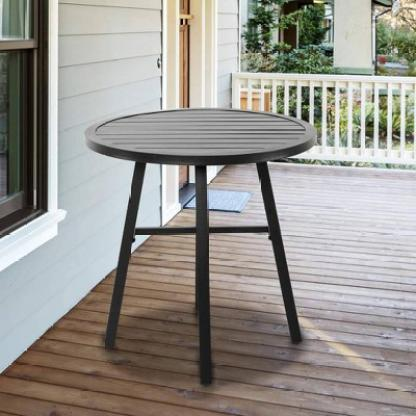table: (79, 104, 321, 393)
